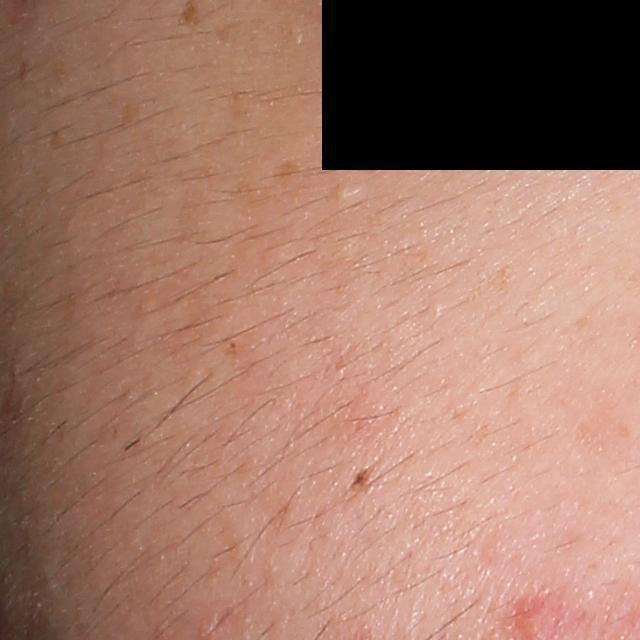melasma: (117, 98, 144, 129), (274, 157, 301, 183)
other: (332, 181, 362, 209)
papule: (514, 599, 551, 638)
